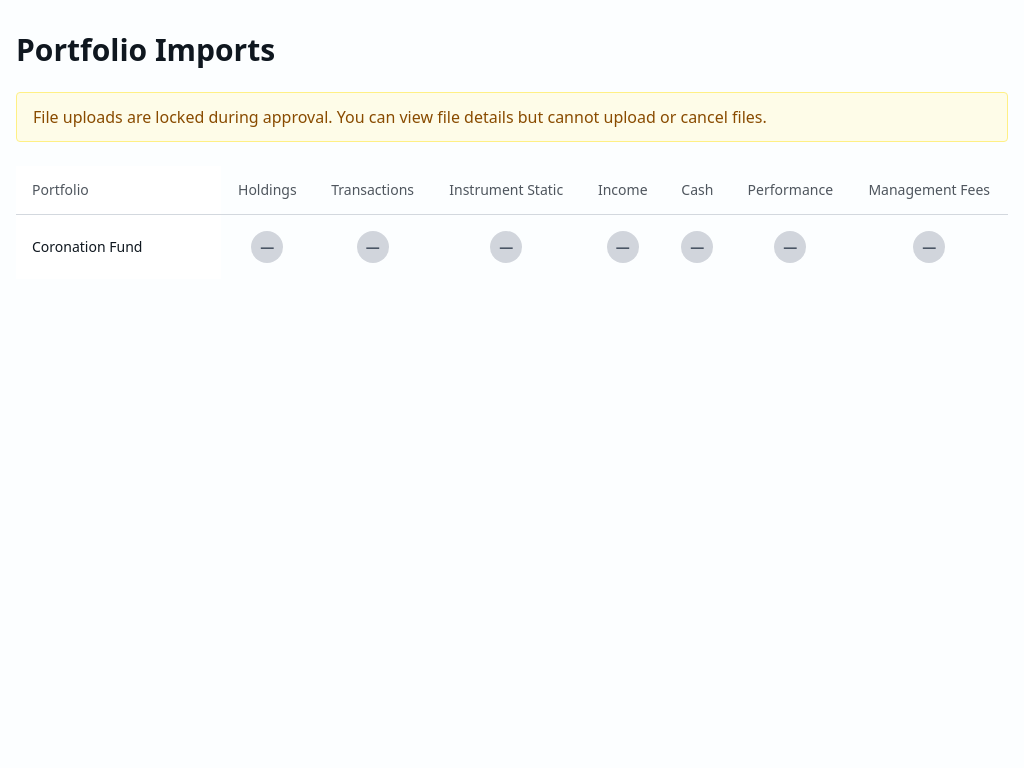
Epic 2, Story 5: File Access Restrictions › Read-Only Access During Approval › allows viewing validation errors during approval
expect the text "File uploads are locked during approval" is shown: met, box [33,106,767,128]
Click the 1st button "—": x=267, y=246 [251,230,283,262]
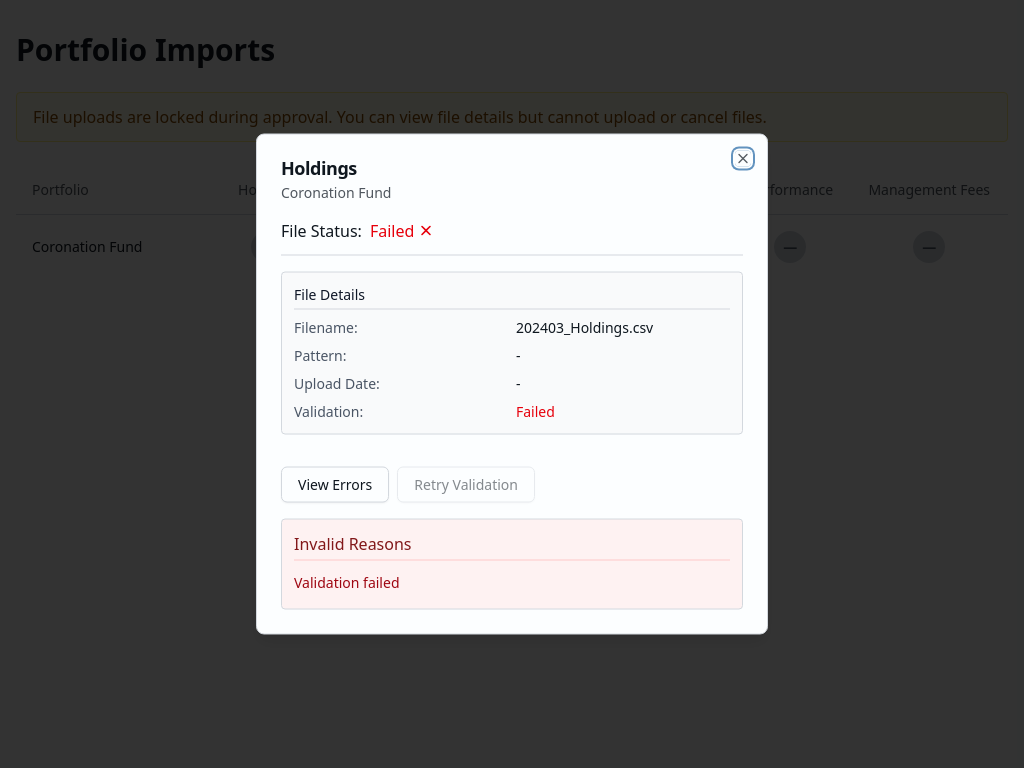
expect the dialog is shown: met, box [256,134,768,634]
expect the button "View Errors" is shown: met, box [281,466,389,502]
expect the button "Retry Validation" is disabled: met, box [397,466,535,502]
